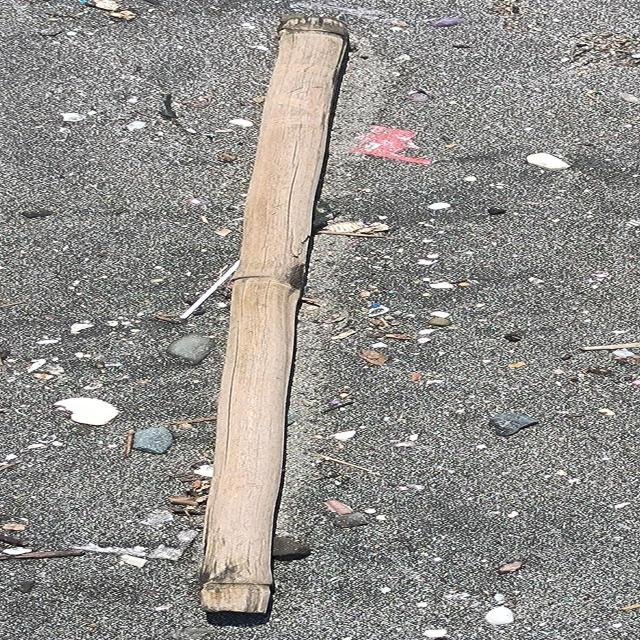wood_waste: (194, 14, 356, 616)
